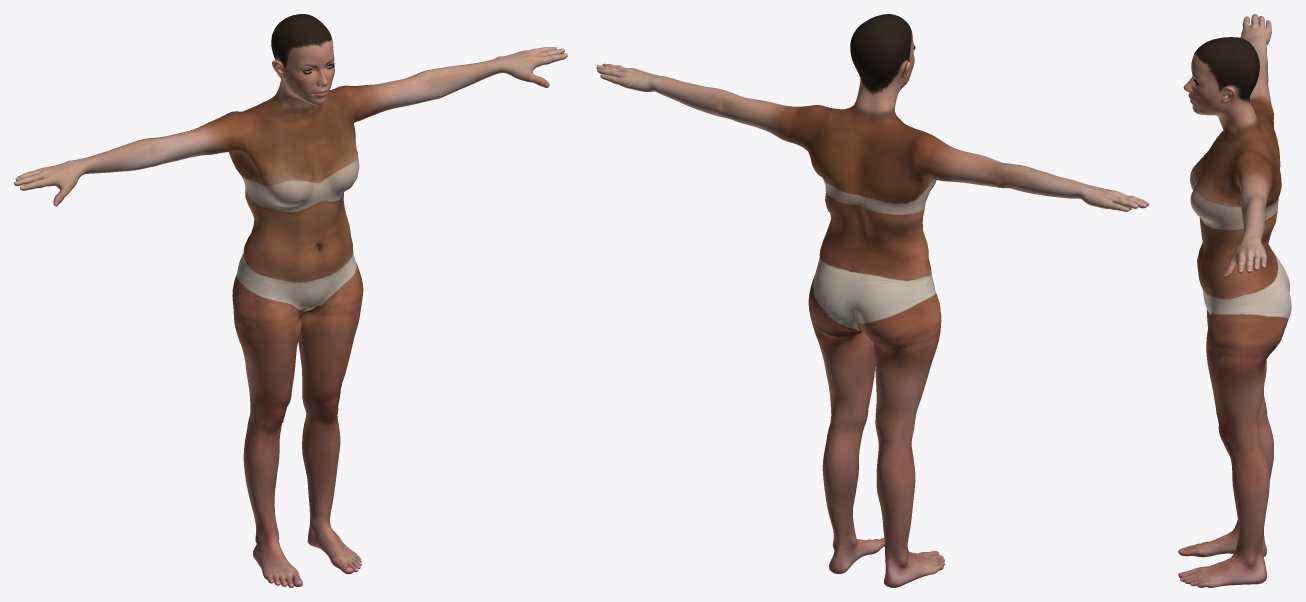
Rendered from lady.obj.
3 renders of one model, left to right at view 1: azimuth 30°, elevation 25°; view 2: azimuth 150°, elevation 25°; view 3: azimuth 270°, elevation 25°, orthographic. The views are drawn at different scales.
Visible parts, largest first — view 1: Body; view 2: Body; view 3: Body.
Part boxes in pixels (box(x1,y1,x2,y2)): Body: box(14, 14, 567, 587); Body: box(596, 14, 1149, 587); Body: box(1178, 14, 1291, 587).
Size of the model in its own units: 174 by 166 by 32.22.
1 material, 1 textured.
